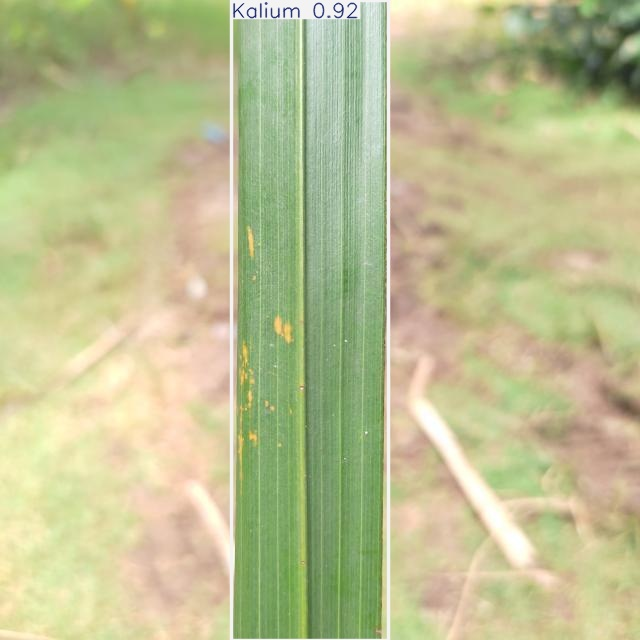Kalium: (232, 0, 389, 640)
